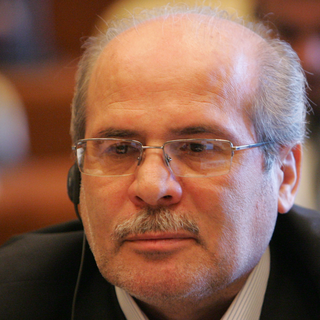eye: (175, 138, 223, 162), (100, 139, 145, 162)
